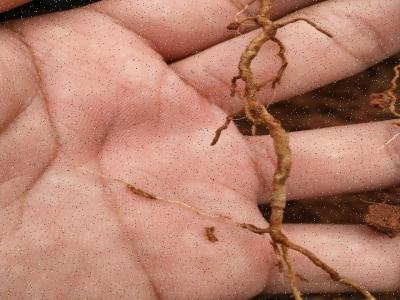Root: (228, 0, 376, 300), (211, 112, 238, 145), (268, 118, 276, 122)
